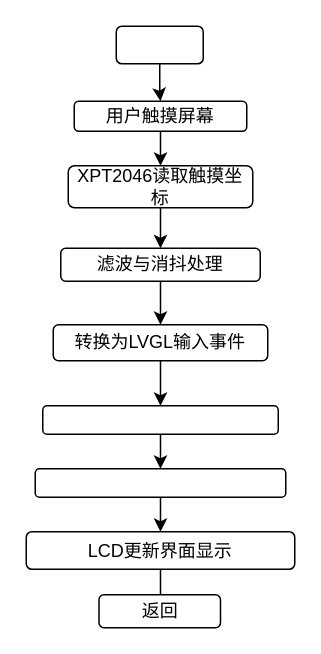
The diagram is 321 pixels wide and 654 high, and some of its shapes have lost their labels. The centre of each missing label's shape, as x and y in pixels:
"开始" goes at (x=159, y=44).
"执行对应功能" goes at (x=160, y=482).
"触发界面控件回调" goes at (x=159, y=419).
